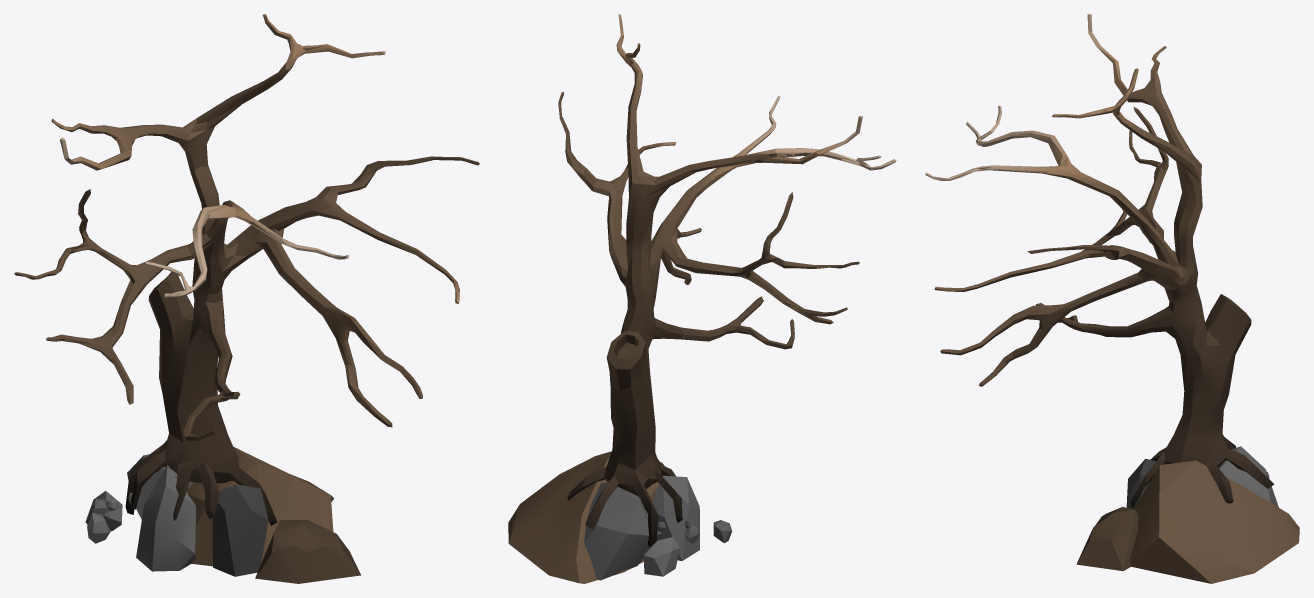
The model's file is ea03_environment_nature_tree_1b_pre_1_lev2.glb.
3 views of the same model, side by side, from view 1: azimuth 30°, elevation 25°; view 2: azimuth 150°, elevation 25°; view 3: azimuth 270°, elevation 25° (orthographic). The views are drawn at different scales.
Parts seen in each view (by area): view 1: ea03_environment_nature_tree_1b_pre_1_lev2; view 2: ea03_environment_nature_tree_1b_pre_1_lev2; view 3: ea03_environment_nature_tree_1b_pre_1_lev2.
Boxes of the visible parts, <box> form: ea03_environment_nature_tree_1b_pre_1_lev2: <box>14,14,479,583</box>; ea03_environment_nature_tree_1b_pre_1_lev2: <box>508,14,896,583</box>; ea03_environment_nature_tree_1b_pre_1_lev2: <box>925,14,1299,583</box>.
Size of the model in its own units: 64.55 by 83.73 by 60.47.
Materials: 1 (1 with a texture image).
